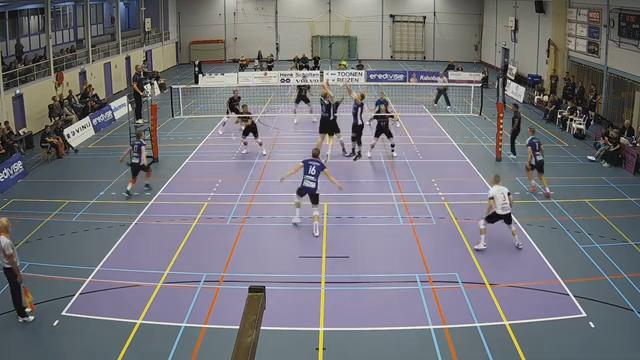Player: (280, 148, 342, 236), (474, 174, 522, 250), (316, 79, 346, 160), (120, 131, 151, 197), (526, 128, 550, 197), (367, 105, 396, 157), (236, 104, 265, 154), (218, 89, 241, 135), (294, 84, 311, 123), (374, 92, 389, 112), (374, 92, 388, 112)
Set: (340, 76, 372, 162)
ball: (336, 59, 348, 69)
